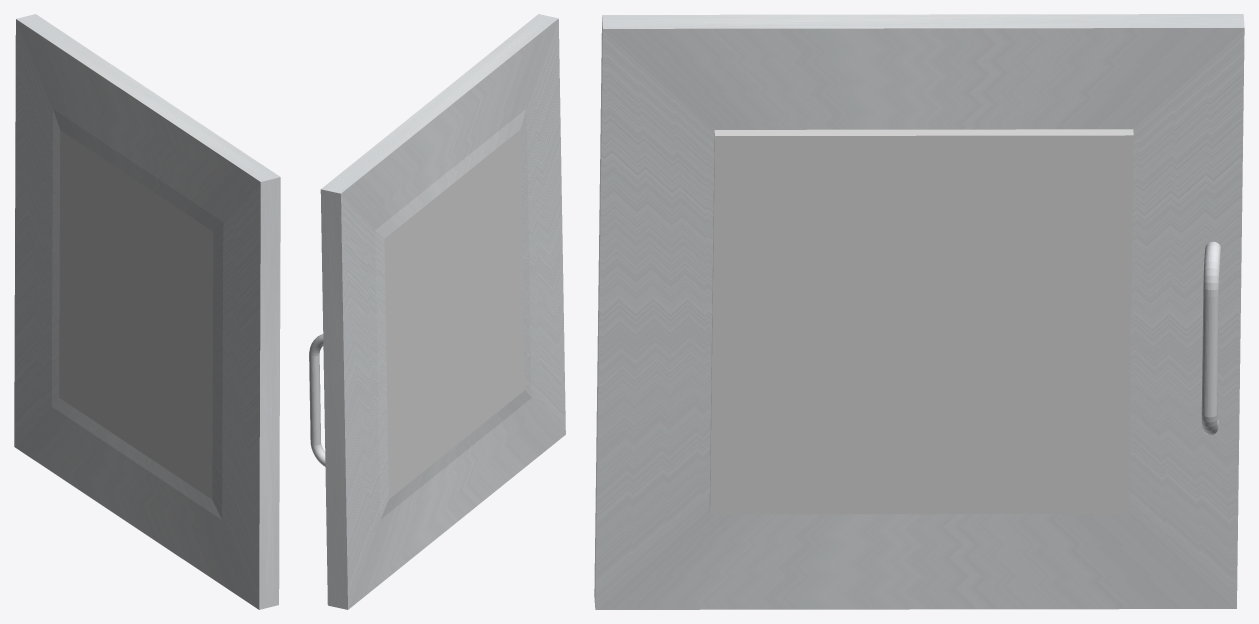
File: 傳送箱門2.fbx
3 renders of one model, left to right at view 1: azimuth 30°, elevation 25°; view 2: azimuth 150°, elevation 25°; view 3: azimuth 270°, elevation 25°, orthographic. The views are drawn at different scales.
Parts seen in each view (by area): view 1: Box004; view 2: Box004; view 3: Box004.
Part boxes in pixels (bbox=[...]): Box004: bbox=[14, 14, 280, 609]; Box004: bbox=[309, 14, 565, 609]; Box004: bbox=[594, 14, 1244, 609].
Size of the model in its own units: 8.15 by 69.93 by 69.71.
Materials: 2 (1 with a texture image).
